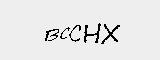В: (44, 27, 59, 44)
Н: (83, 23, 100, 45)
С: (67, 22, 83, 42), (59, 23, 69, 43)
Х: (100, 22, 122, 43)
